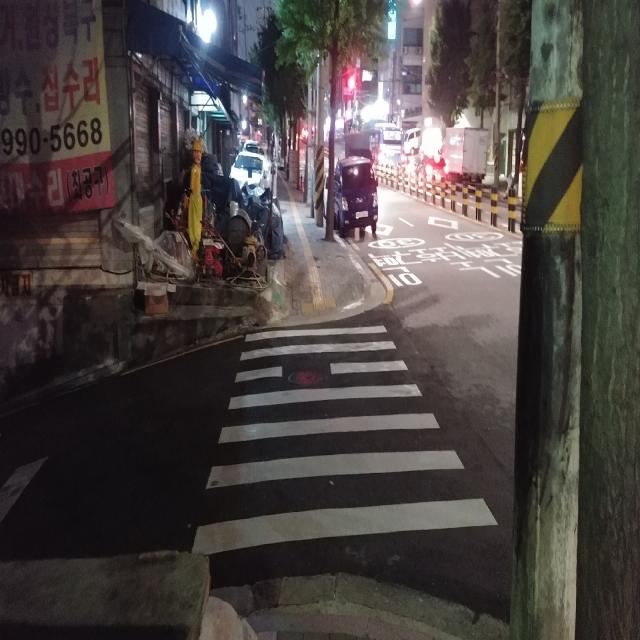횡단보도: (191, 324, 498, 558)
